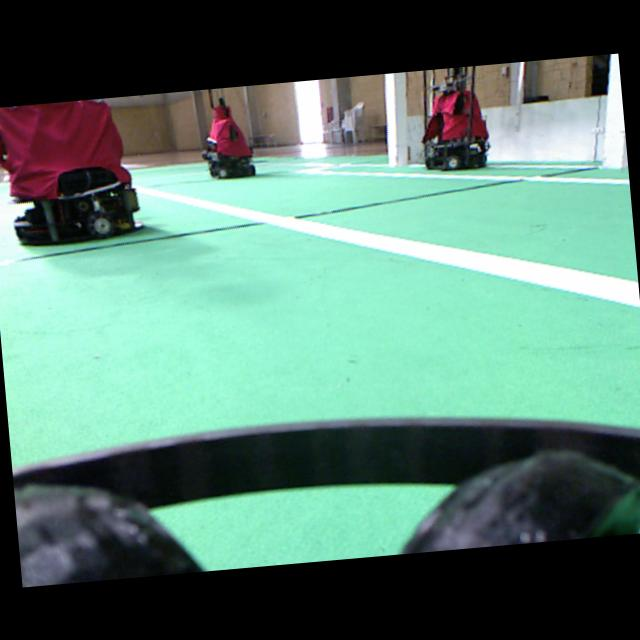goal: (603, 53, 627, 167), (384, 73, 397, 165)
